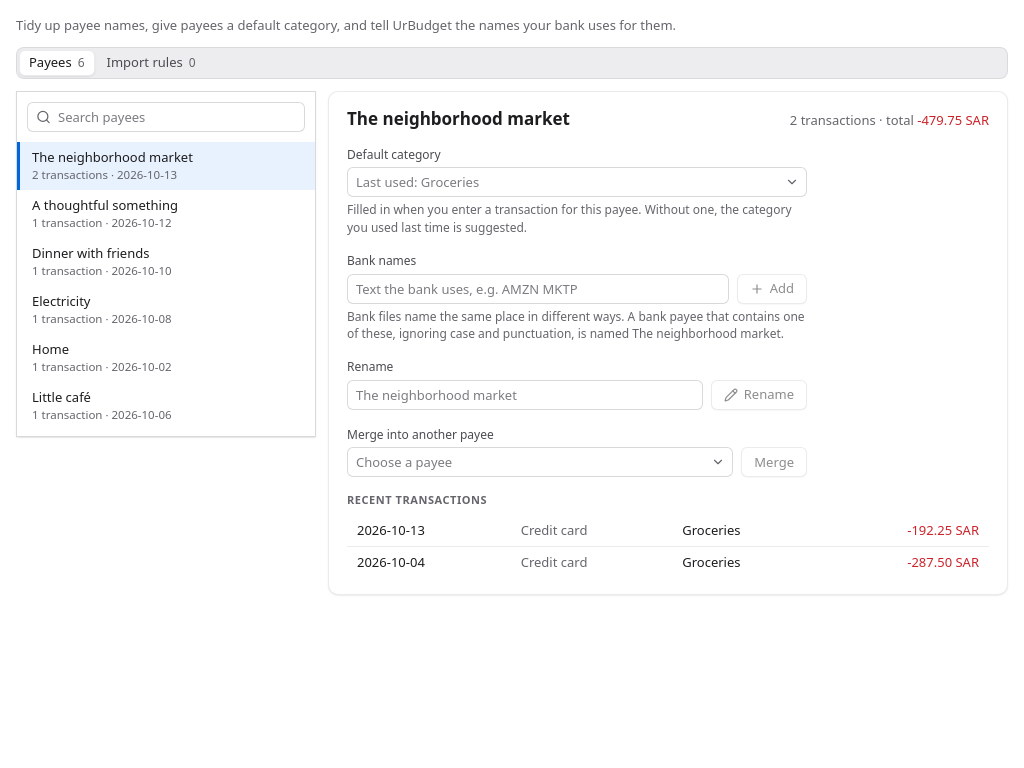
Test: sets a payee's default category
Click the option "Electricity 1 transaction · 2026-10-08" at (102,309), box [32,292,172,326]
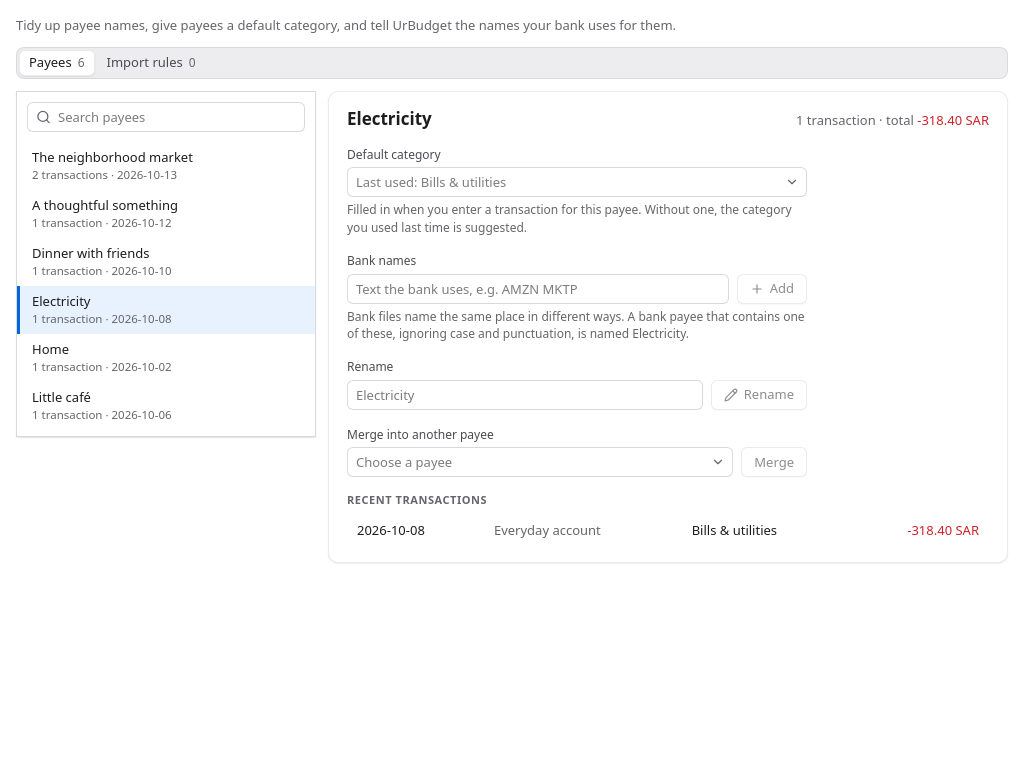
Type "Gift" into the dropdown named "Default category" at (577,182), box [347,167,807,197]
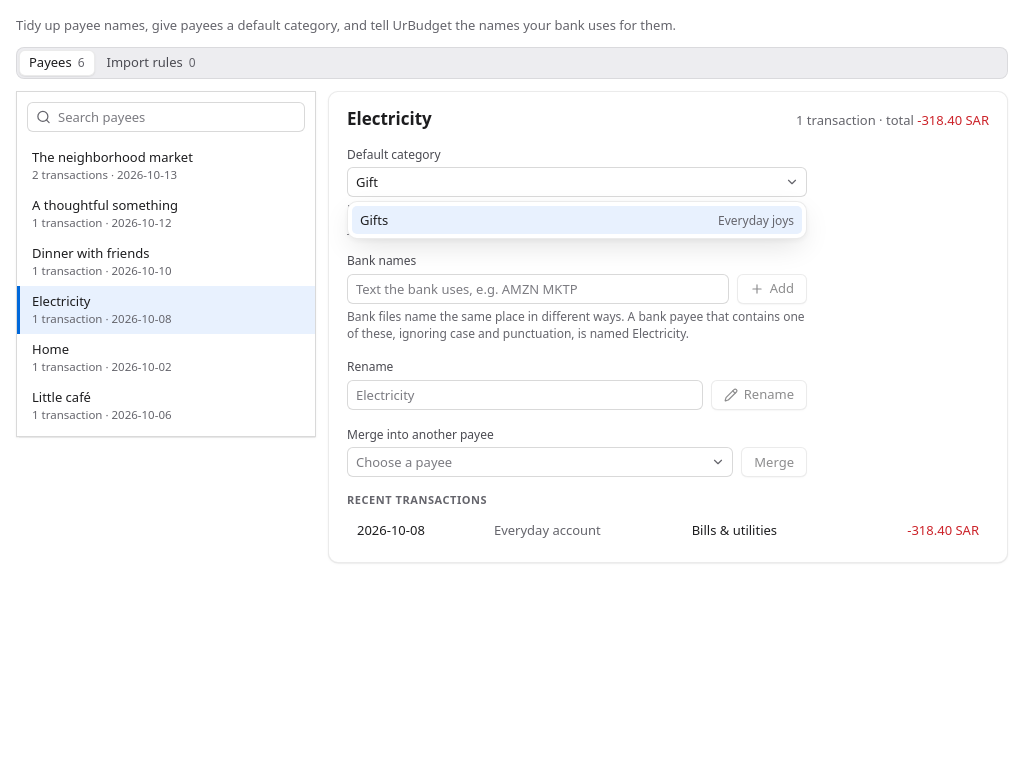
Click the option "Gifts Everyday joys" at (756,220), box [352,206,802,234]
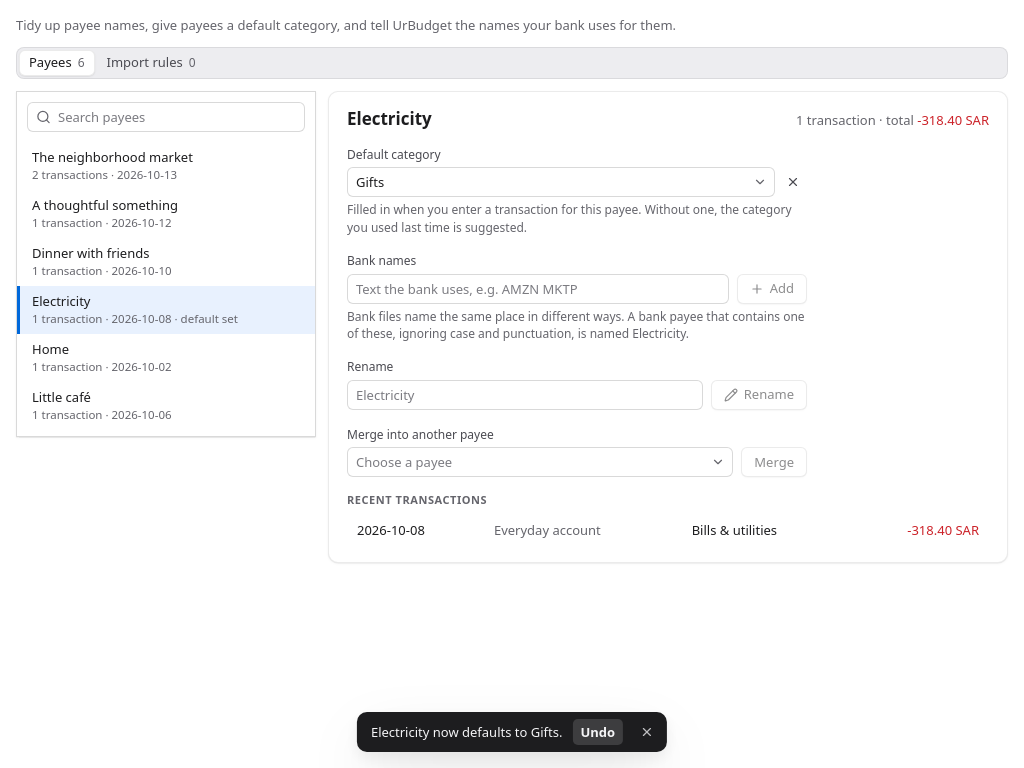
Result: the text "Electricity now defaults to Gifts." is shown at [371,723,562,741]
